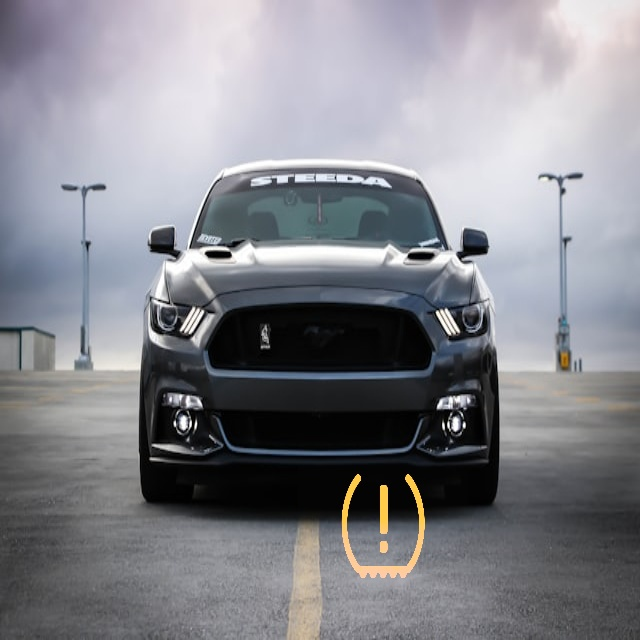symbol: (298, 437, 468, 607)
